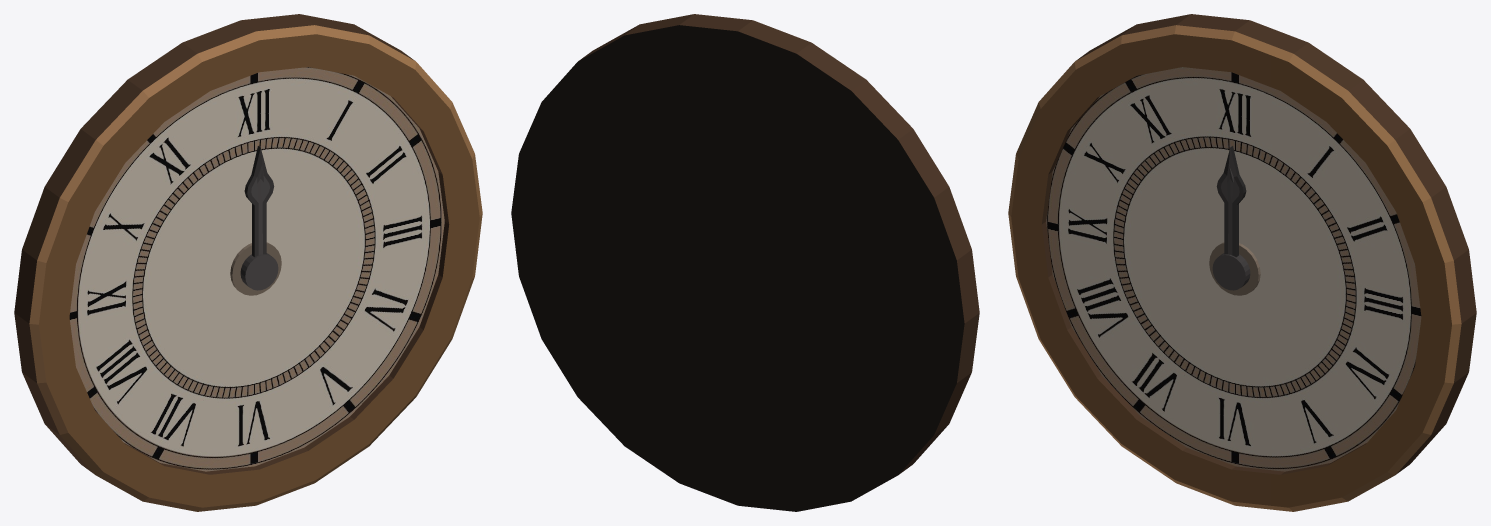
Rendered from Countdown_Timer_Pirate.glb.
The picture shows the model from 3 angles, left to right: view 1: azimuth 30°, elevation 25°; view 2: azimuth 150°, elevation 25°; view 3: azimuth 330°, elevation 25°; orthographic projection.
Visible parts, largest first — view 1: Cylinder.010, Plane.005; view 2: Cylinder.010; view 3: Cylinder.010, Plane.005.
Part boxes in pixels (bbox=[...]): Cylinder.010: bbox=[14, 14, 482, 511]; Plane.005: bbox=[244, 146, 274, 257]; Cylinder.010: bbox=[511, 14, 979, 511]; Cylinder.010: bbox=[1008, 14, 1476, 511]; Plane.005: bbox=[1216, 146, 1246, 257].
Bounding box in the file's own units: 0.5 × 0.5 × 0.0407.
2 materials, 2 textured.
